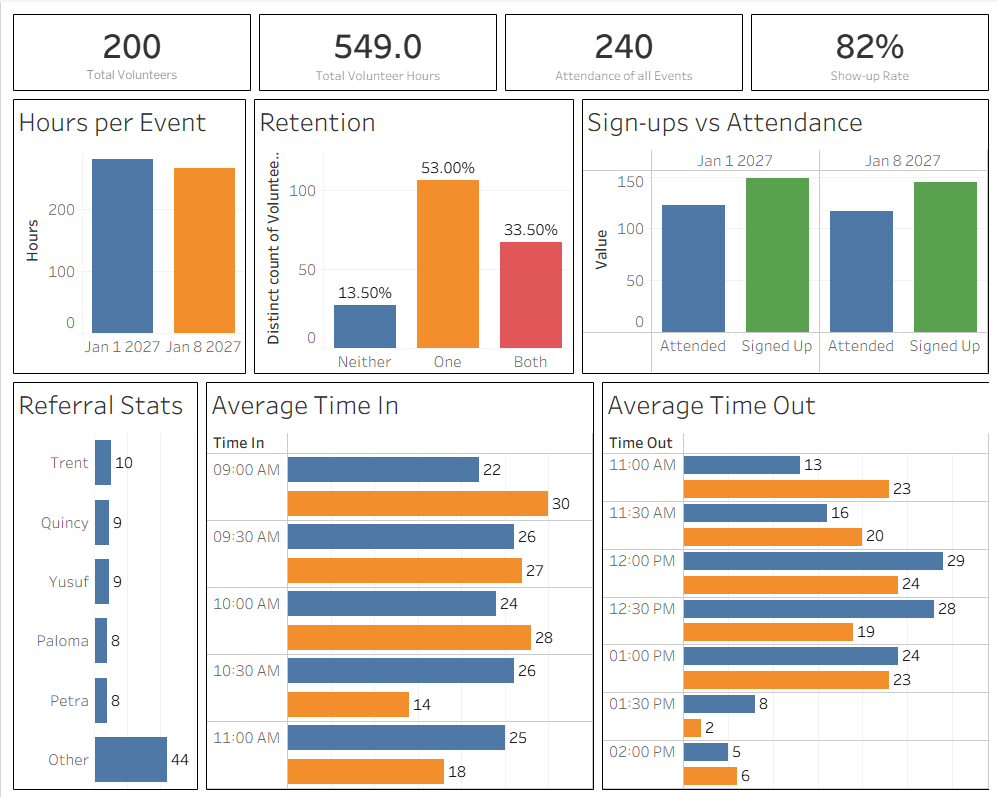

The dashboard page shown, as its layout file describes it:
{"tool":"tableau","page":{"name":"Dashboard 1","canvas":[1000,800],"ordinal":0},"visuals":[{"type":"worksheet","title":"Total Volunteers","mark":"Automatic","box":[8,8,246,85]},{"type":"worksheet","title":"Total Volunteer Hours","mark":"Automatic","box":[254,8,246,85]},{"type":"worksheet","title":"Total Volunteer Attendance","mark":"Automatic","box":[500,8,246,85]},{"type":"worksheet","title":"Show-up Rate","mark":"Automatic","box":[746,8,246,85]},{"type":"worksheet","title":"Hours per Weekend","mark":"Automatic","rows":["hours"],"cols":["event"],"box":[8,93,240.9,283]},{"type":"worksheet","title":"Retention","mark":"Automatic","rows":["volunteer_id"],"cols":["Calculation_3170215573045251"],"box":[248.9,93,328.3,283]},{"type":"worksheet","title":"Sign-ups vs Attendance","mark":"Automatic","cols":["event"],"box":[577.2,93,414.8,283]},{"type":"worksheet","title":"Referral Stats","mark":"Automatic","rows":["Calculation_3170215595491332"],"cols":["volunteer_id"],"box":[8,376,193,416]},{"type":"worksheet","title":"Average Time In","mark":"Automatic","rows":["time_in","event"],"cols":["volunteer_id"],"box":[201,376,395.5,416]},{"type":"worksheet","title":"Average Time Out","mark":"Automatic","rows":["time_out","event"],"cols":["volunteer_id"],"box":[596.5,376,395.5,416]}]}

Visuals, with their boxes in screenshot pixels (x1, y1, x2, y2), scaled from the page's 1000x800 canvas onto the 998x797 screenshot:
"Total Volunteers" worksheet: x1=8, y1=8, x2=253, y2=93
"Total Volunteer Hours" worksheet: x1=253, y1=8, x2=499, y2=93
"Total Volunteer Attendance" worksheet: x1=499, y1=8, x2=745, y2=93
"Show-up Rate" worksheet: x1=745, y1=8, x2=990, y2=93
"Hours per Weekend" worksheet: x1=8, y1=93, x2=248, y2=375
"Retention" worksheet: x1=248, y1=93, x2=576, y2=375
"Sign-ups vs Attendance" worksheet: x1=576, y1=93, x2=990, y2=375
"Referral Stats" worksheet: x1=8, y1=375, x2=201, y2=789
"Average Time In" worksheet: x1=201, y1=375, x2=595, y2=789
"Average Time Out" worksheet: x1=595, y1=375, x2=990, y2=789
